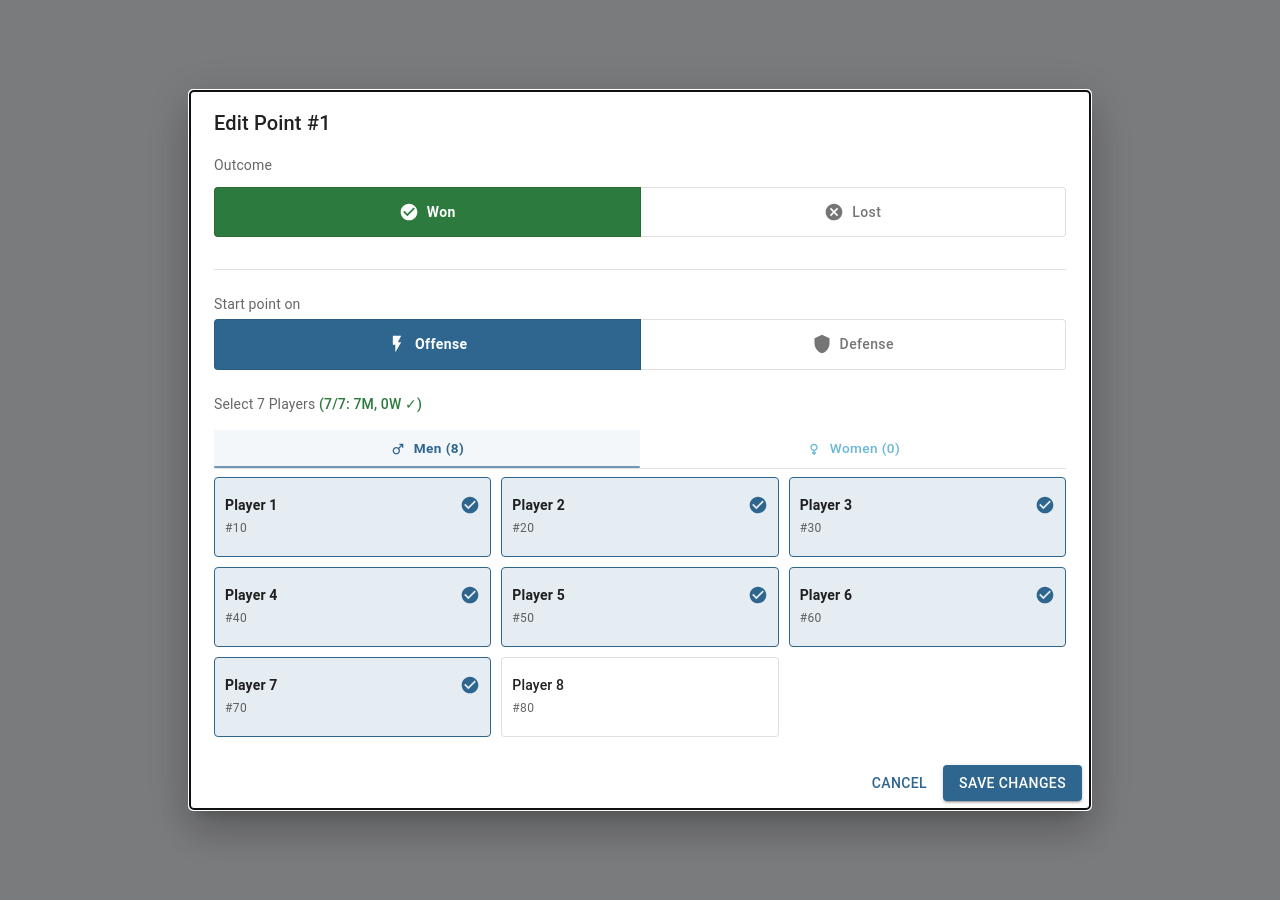
EditPointDialog › disables save button when less than 7 players selected
Expected: the button "Save Changes" is enabled, [943,765,1082,801]
Step 1. Click the button "Player 1 #10" → [251, 505], box [215,478,490,556]
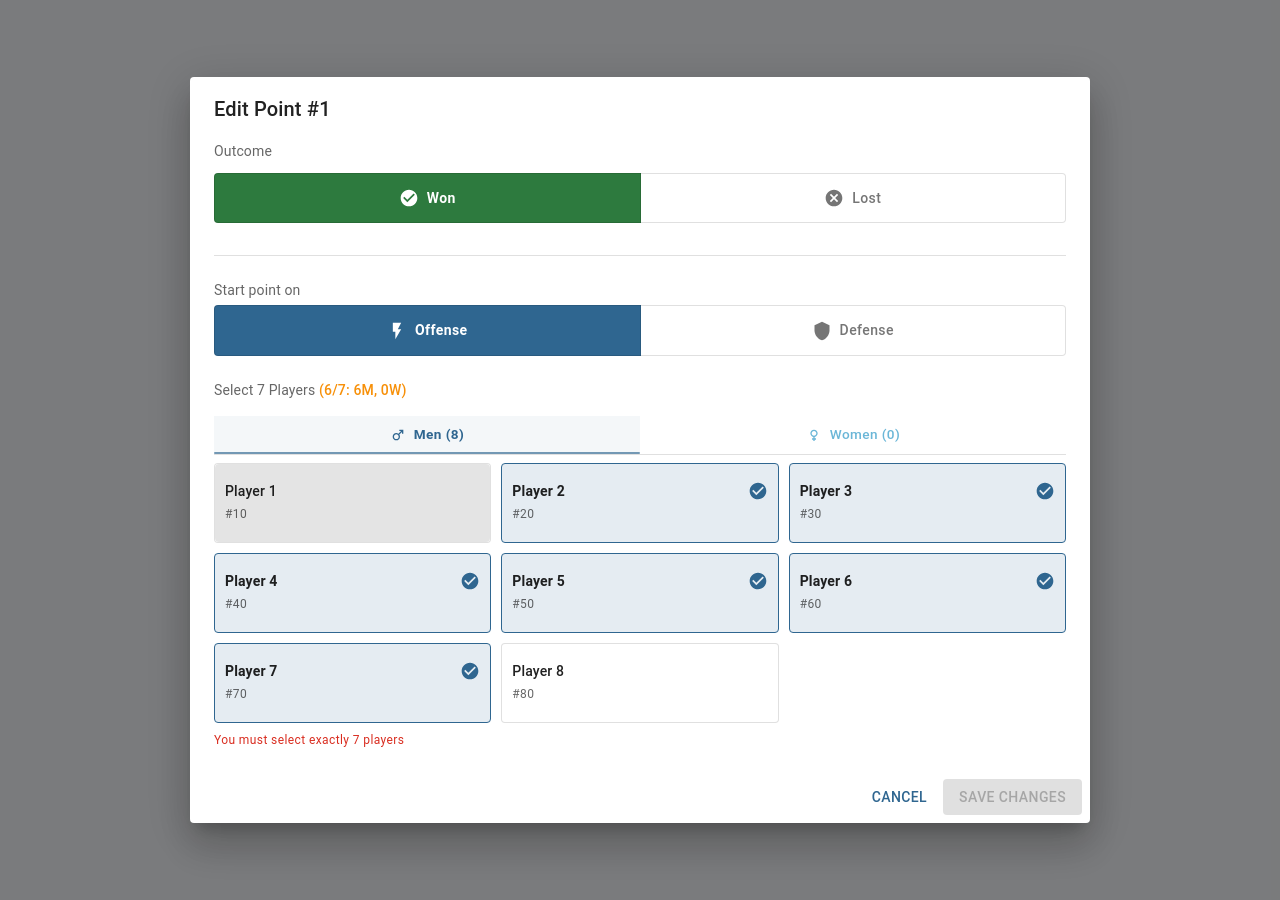
Now the button "Save Changes" is disabled, box [943,779,1082,815]
